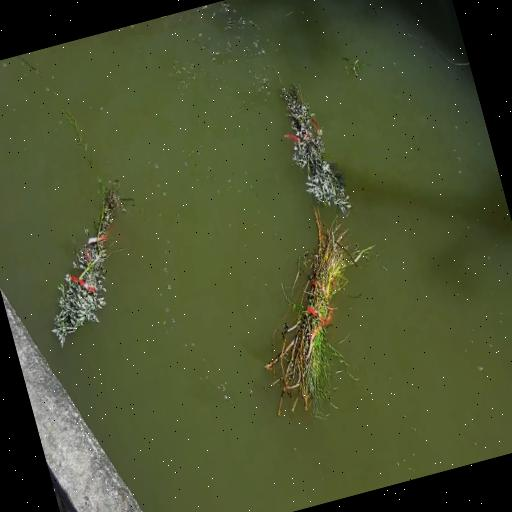twig: (265, 212, 347, 414), (52, 187, 121, 345), (281, 83, 351, 213)
